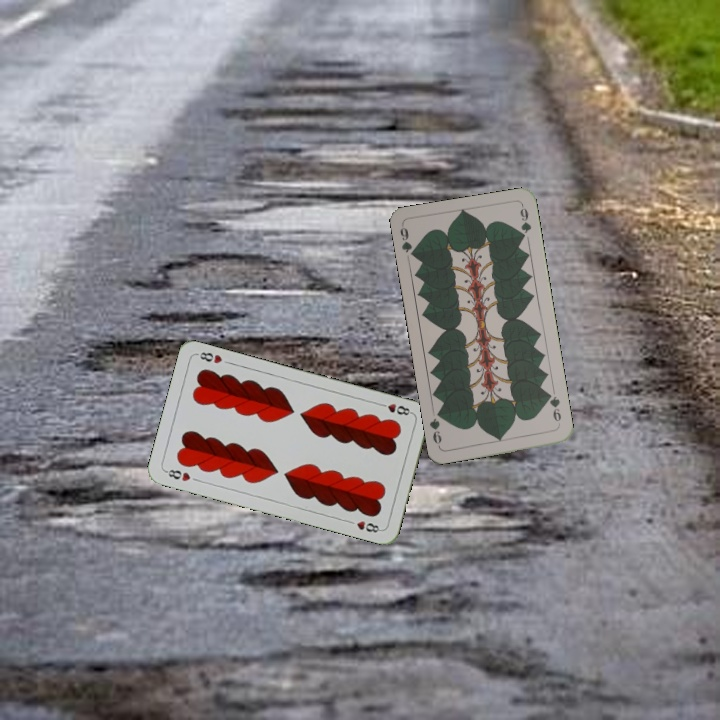G9: (396, 222, 419, 261), (543, 389, 564, 429)
H8: (375, 399, 415, 418), (161, 465, 193, 484)
